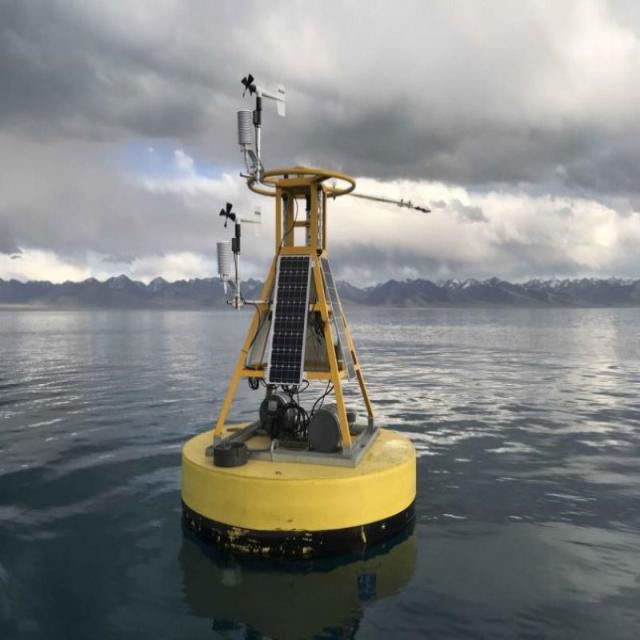buoy: (167, 68, 436, 551)
